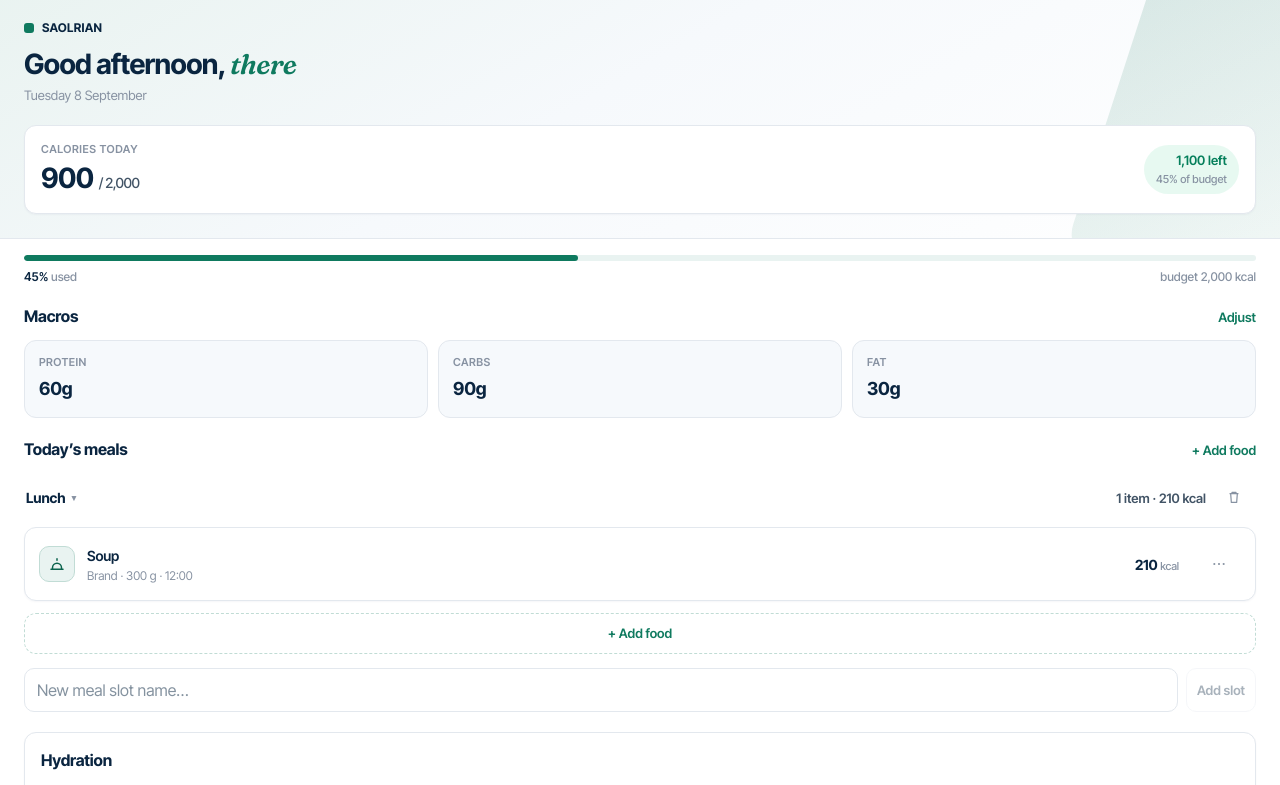
Test: Today — deleting an entry is reversible › offers an undo instead of a confirmation
Click the button named "actions for soup": coordinates (1219, 564) [1197,542,1241,586]
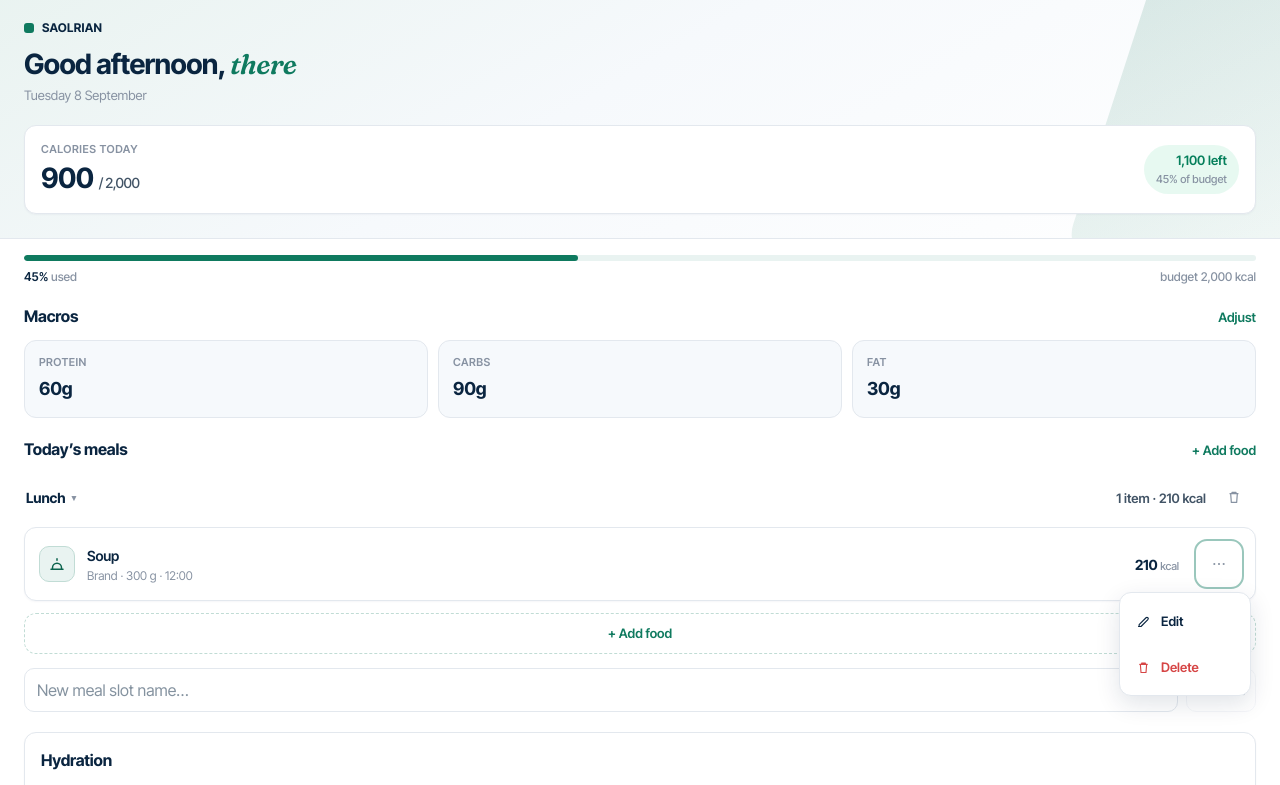
Click the menu item "Delete": coordinates (1185, 667) [1126,645,1244,689]
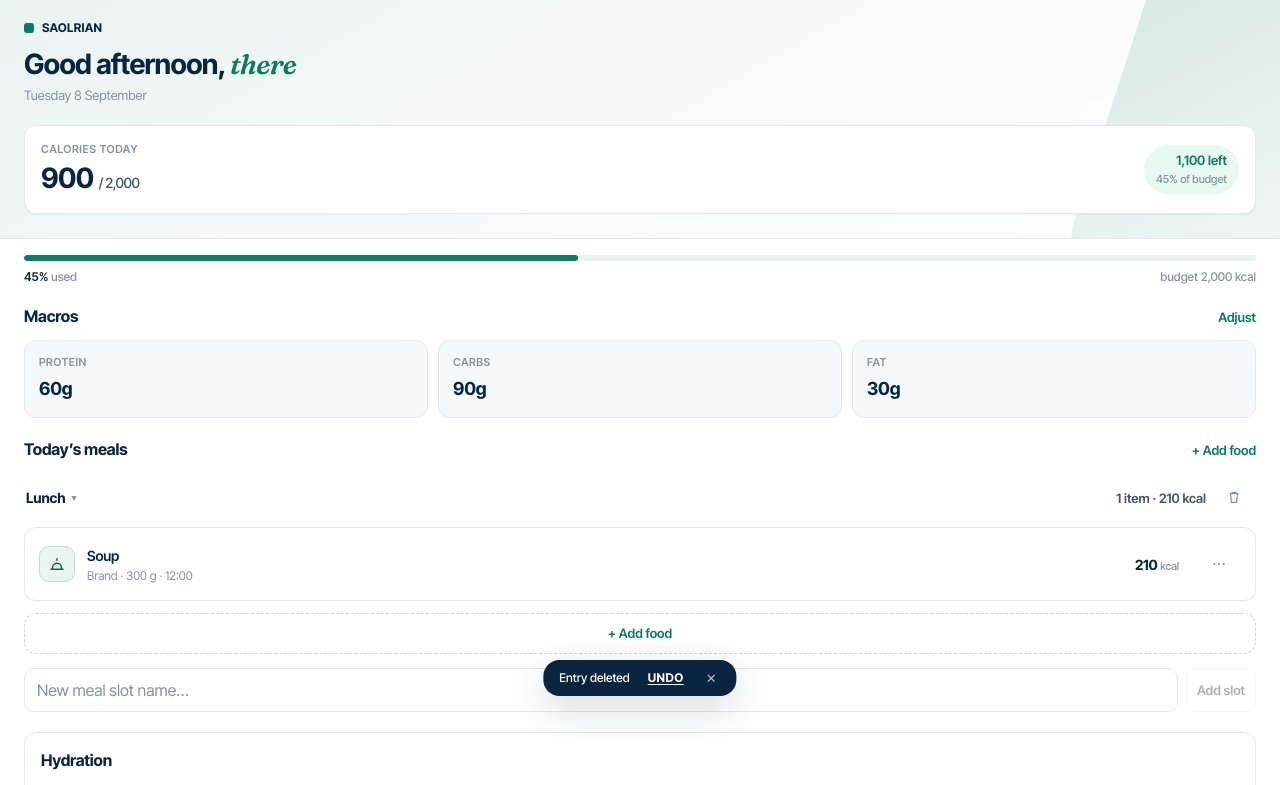
Now the button "Undo" is shown, box [642,668,690,688]
